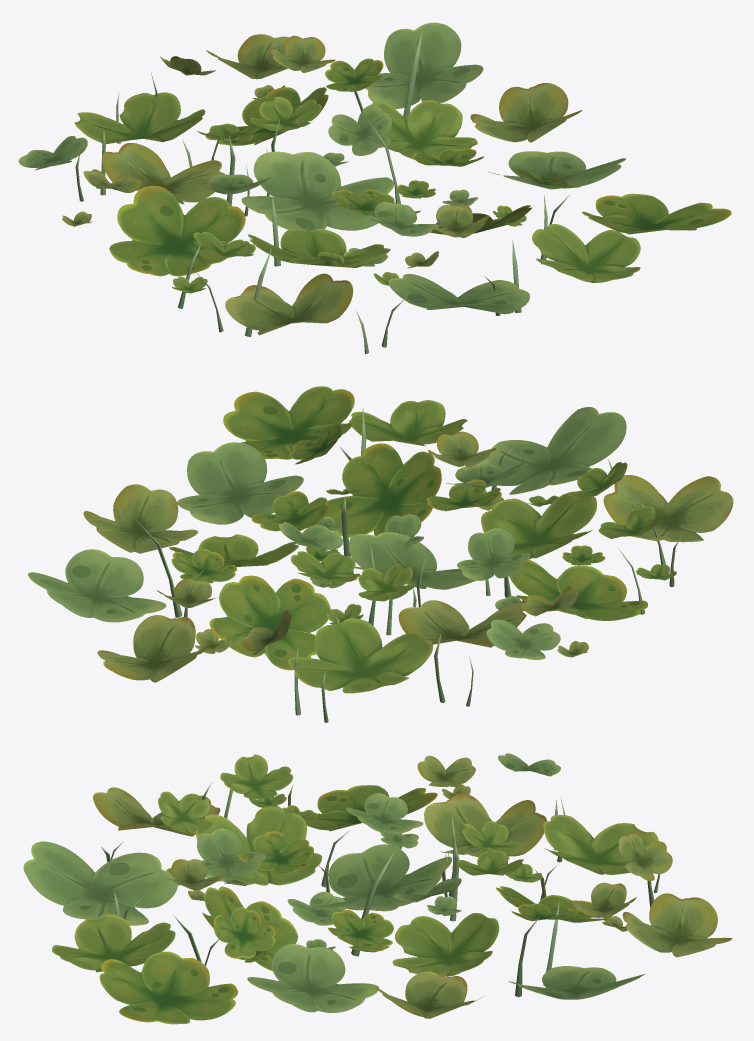
File: clover_2.fbx
3 views of the same model, one above another, from view 1: azimuth 30°, elevation 25°; view 2: azimuth 150°, elevation 25°; view 3: azimuth 270°, elevation 25° (orthographic). The views are drawn at different scales.
Parts seen in each view (by area): view 1: clover_2_low; view 2: clover_2_low; view 3: clover_2_low.
Boxes of the visible parts, bbox=[...] form: clover_2_low: bbox=[18, 22, 731, 353]; clover_2_low: bbox=[28, 386, 733, 722]; clover_2_low: bbox=[23, 753, 732, 1024].
Bounding box in the file's own units: 161 × 30.04 × 200.
